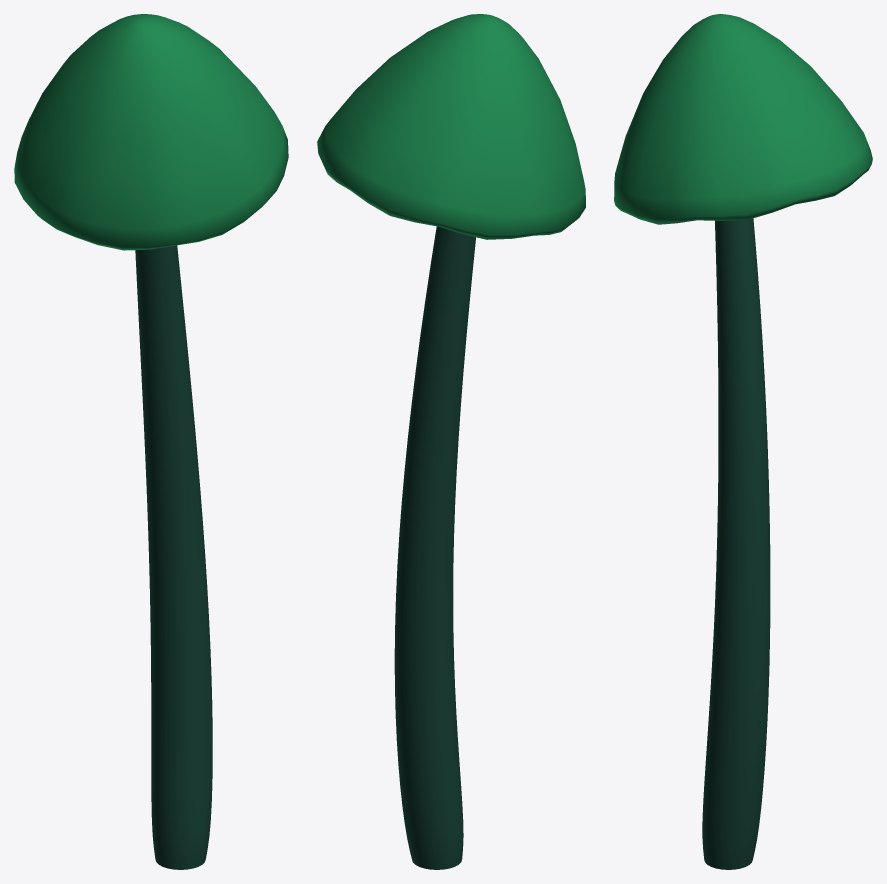
Rendered from GreenMush_D.fbx.
The picture shows the model from 3 angles, left to right: view 1: azimuth 30°, elevation 25°; view 2: azimuth 150°, elevation 25°; view 3: azimuth 270°, elevation 25°; orthographic projection. The views are drawn at different scales.
Visible parts, largest first — view 1: GreenMush_D; view 2: GreenMush_D; view 3: GreenMush_D.
Part boxes in pixels (bbox=[...]): GreenMush_D: bbox=[14, 14, 288, 869]; GreenMush_D: bbox=[317, 14, 585, 869]; GreenMush_D: bbox=[614, 14, 872, 869].
Bounding box in the file's own units: 123 × 123 × 431.
